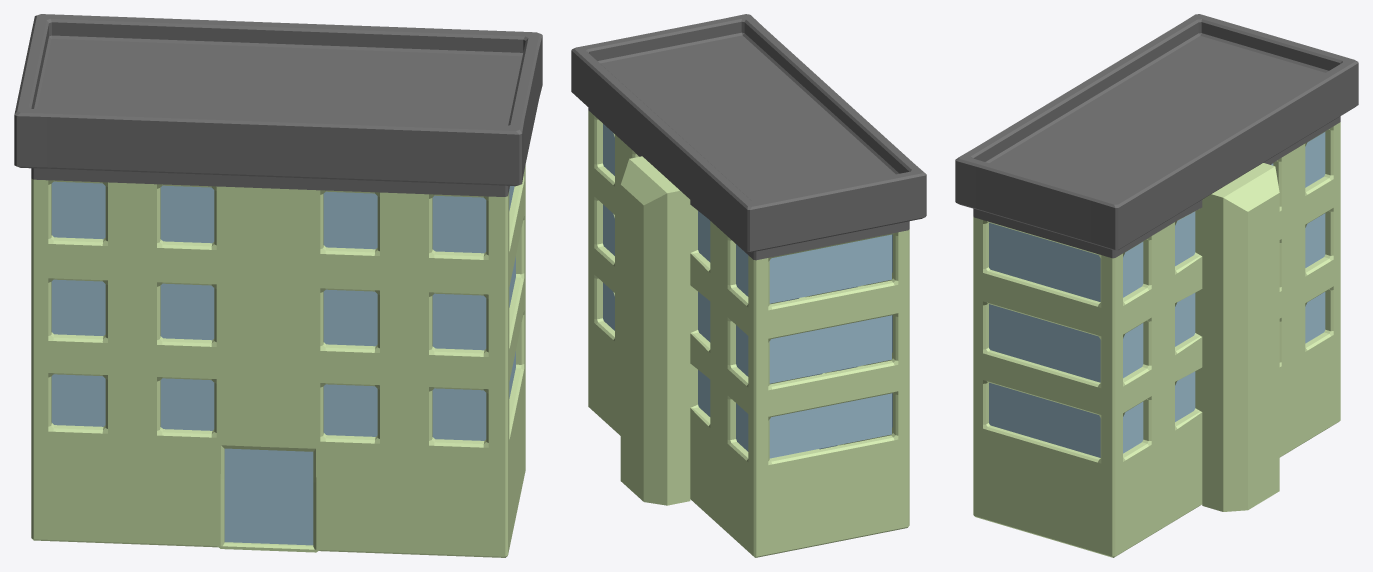
File: Building_004.fbx
3 views of the same model, side by side, from view 1: azimuth 30°, elevation 25°; view 2: azimuth 150°, elevation 25°; view 3: azimuth 270°, elevation 25° (orthographic). The views are drawn at different scales.
Visible parts, largest first — view 1: Building_004; view 2: Building_004; view 3: Building_004.
Part boxes in pixels (left/top/right/bottom): Building_004: left=14, top=14, right=542, bottom=557; Building_004: left=571, top=14, right=926, bottom=557; Building_004: left=955, top=14, right=1358, bottom=557.
Size of the model in its own units: 2648 by 2298 by 2331.
